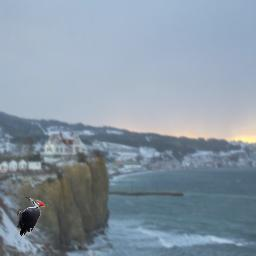Woodpecker: (17, 197, 45, 237)
